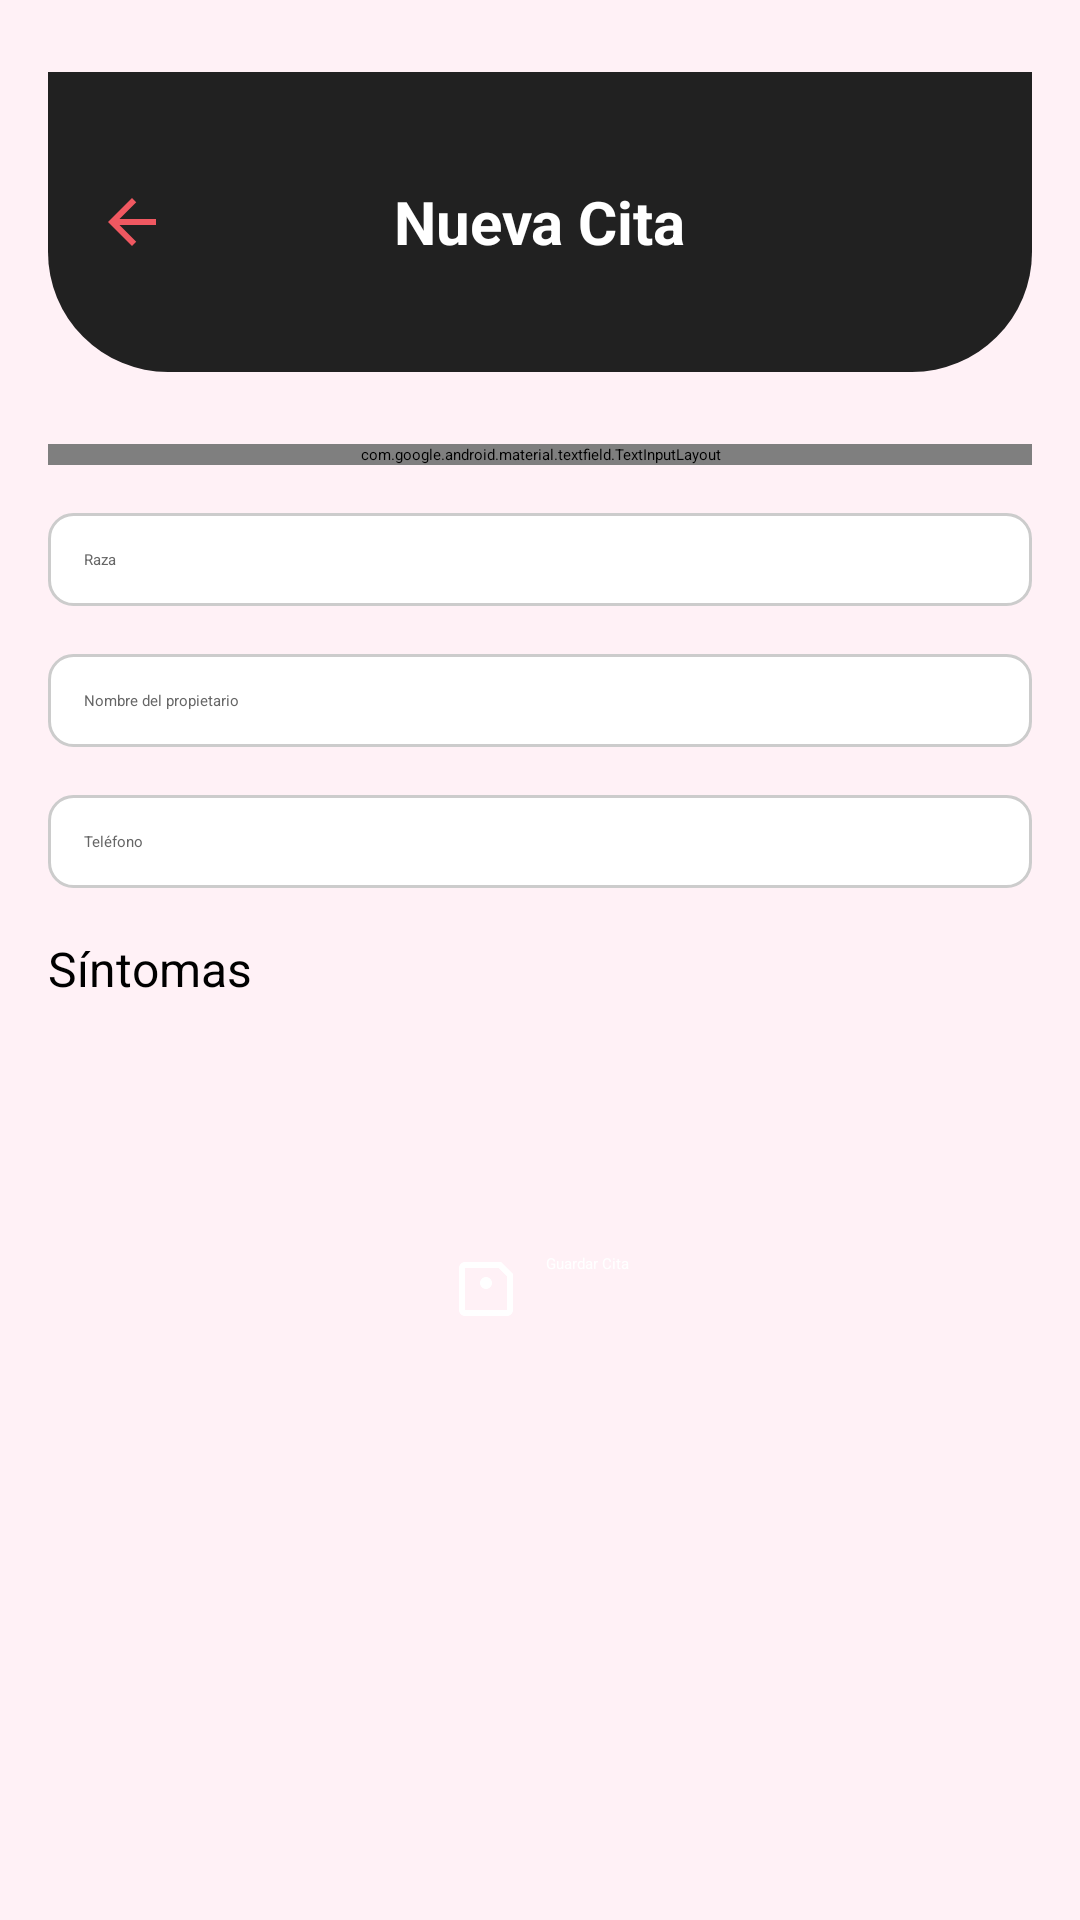

Icons on this 1080px x 1920px Android screen, each with its box as Rect(x1, y1, x2, y2):
Regresar: Rect(108, 198, 156, 246)
